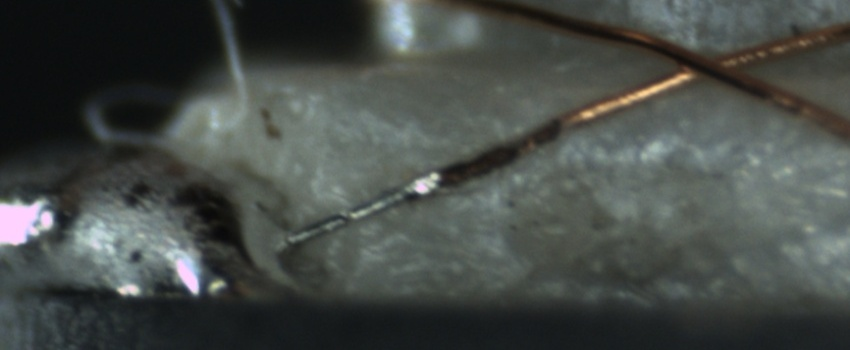CL: (644, 36, 771, 90)
DL: (340, 134, 850, 198)
TS: (281, 171, 441, 247)
TTCW: (276, 156, 479, 253)
